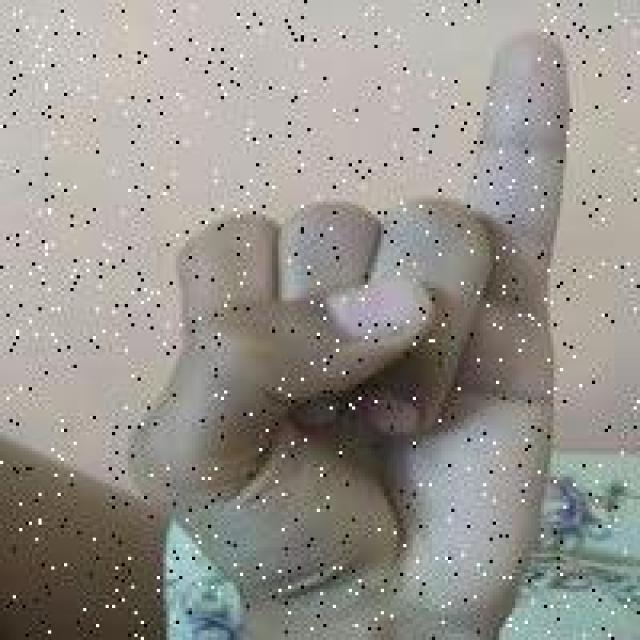I: (125, 19, 589, 605)
